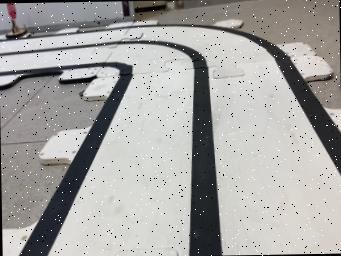stop: (7, 3, 16, 19), (7, 3, 16, 19), (7, 3, 16, 19)
street: (0, 23, 341, 256), (0, 23, 341, 256), (0, 23, 341, 256)
